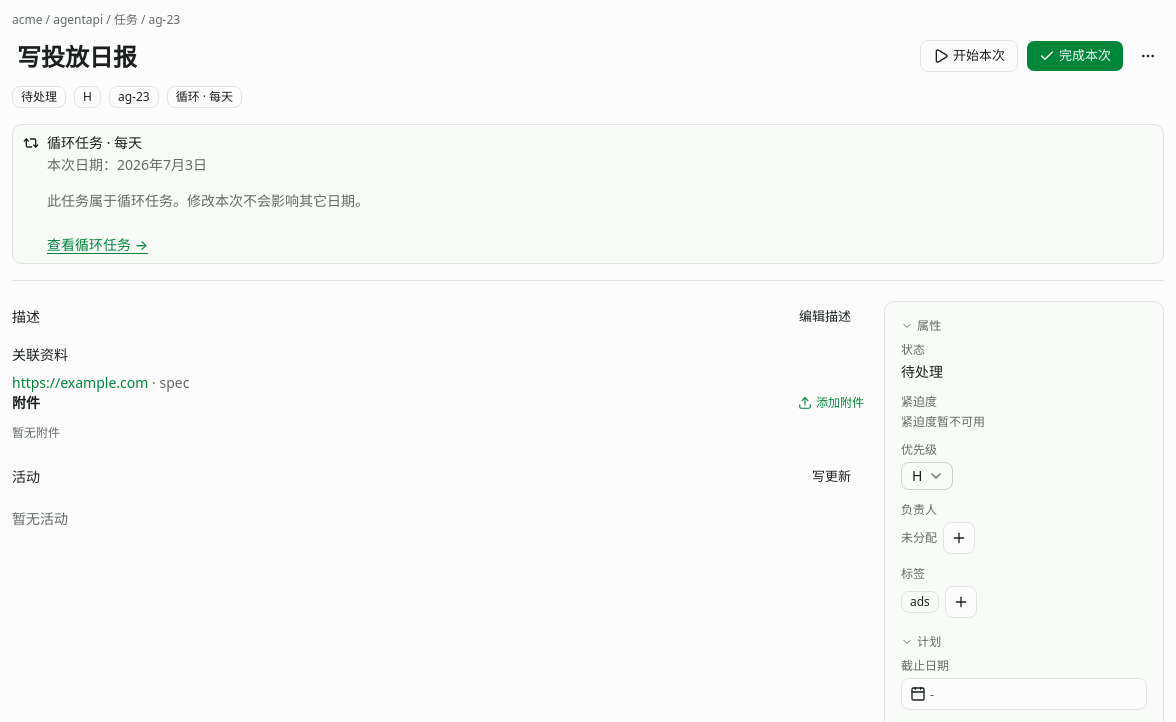
TaskDetailPage › keeps a completed occurrence on its slug and announces the occurrence date
The image size is (1176, 722).
Click the button "完成本次" at (1075, 56), box [1026,40,1124,72]
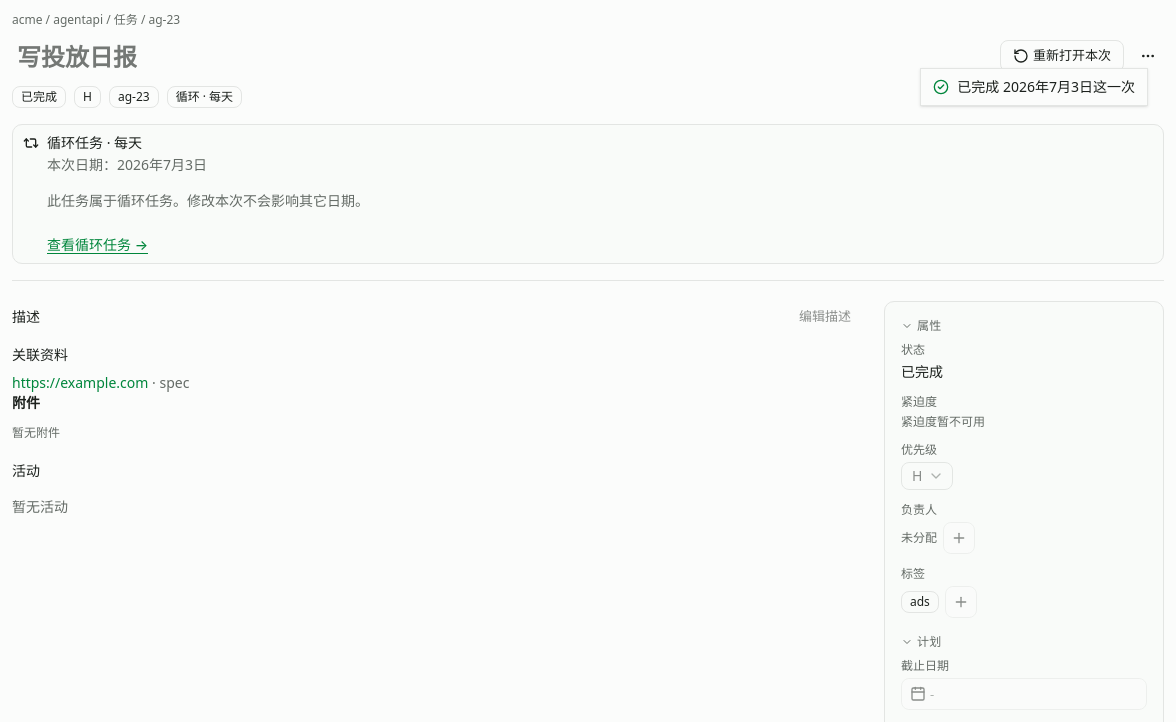
Expected: the button "重新打开本次" is shown, [1000,40,1124,72]
Expected: the message "已完成 2026年7月3日这一次" is shown, [920,68,1148,106]
